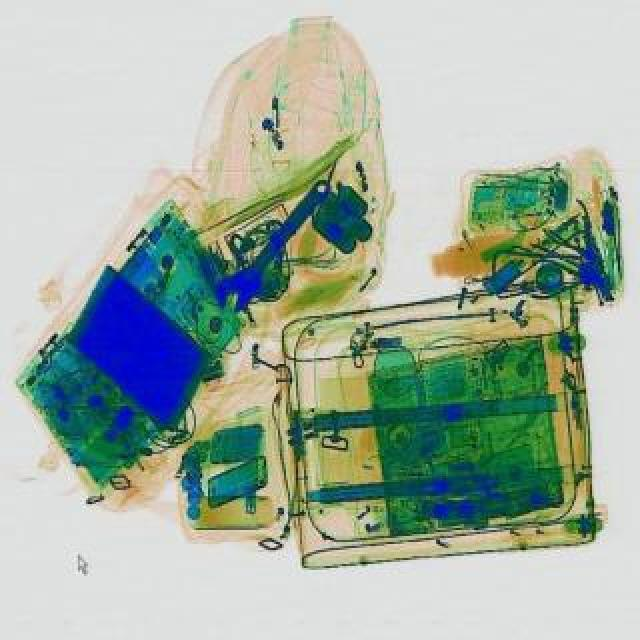scissors: (204, 168, 340, 320)
wrench: (536, 196, 624, 278)
